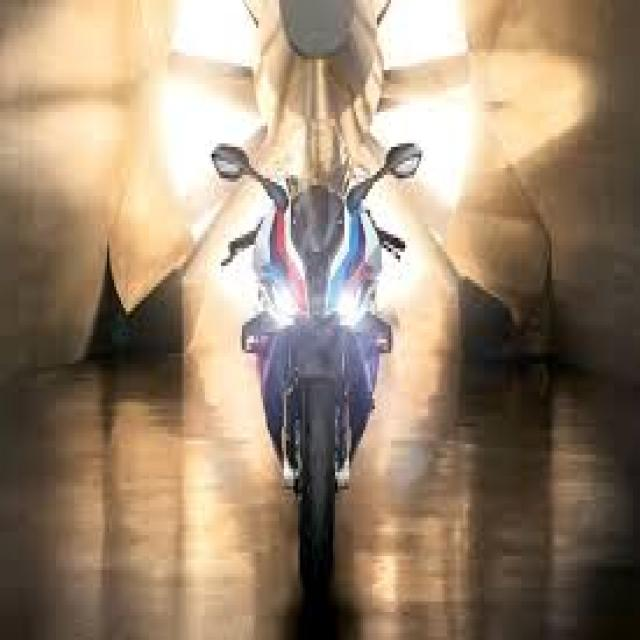Bike: (211, 140, 424, 607)
